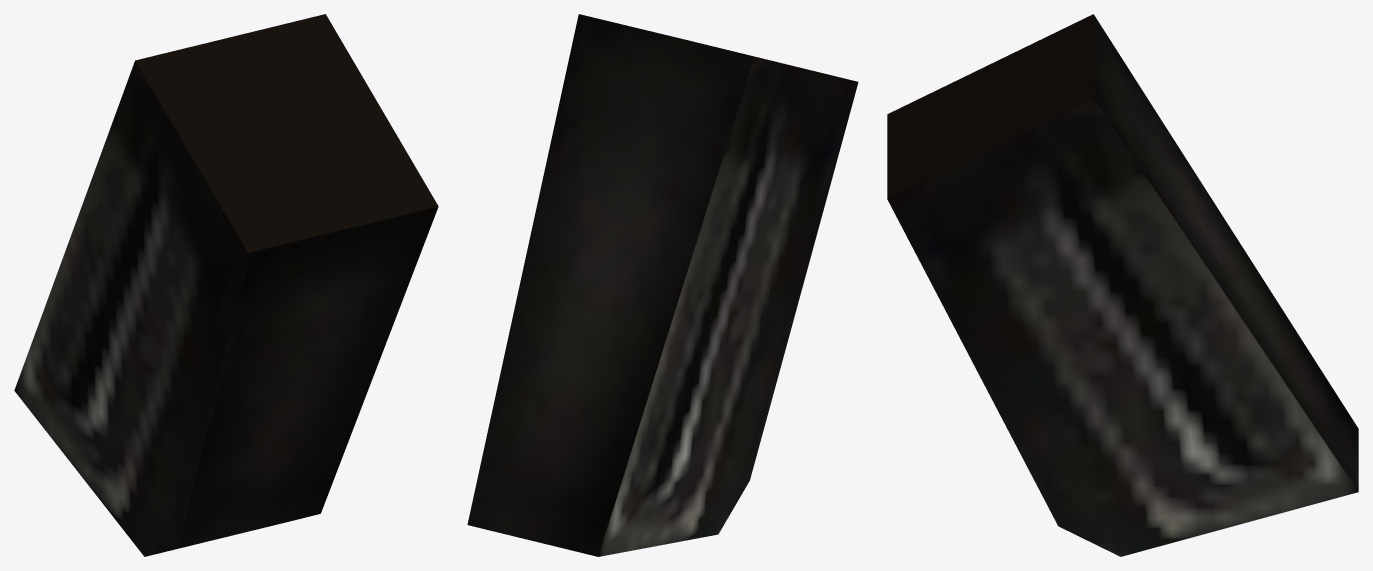
The model's file is gun01_reload.obj.
The picture shows the model from 3 angles, left to right: view 1: azimuth 30°, elevation 25°; view 2: azimuth 150°, elevation 25°; view 3: azimuth 270°, elevation 25°; orthographic projection. The views are drawn at different scales.
Visible parts, largest first — view 1: gun01_reload; view 2: gun01_reload; view 3: gun01_reload.
Part boxes in pixels (x1,y1,x2,y2): gun01_reload: (14,14,438,556); gun01_reload: (467,14,858,556); gun01_reload: (887,14,1358,556).
Bounding box in the file's own units: 0.0728 × 0.1872 × 0.1706.
Materials: 1 (1 with a texture image).
